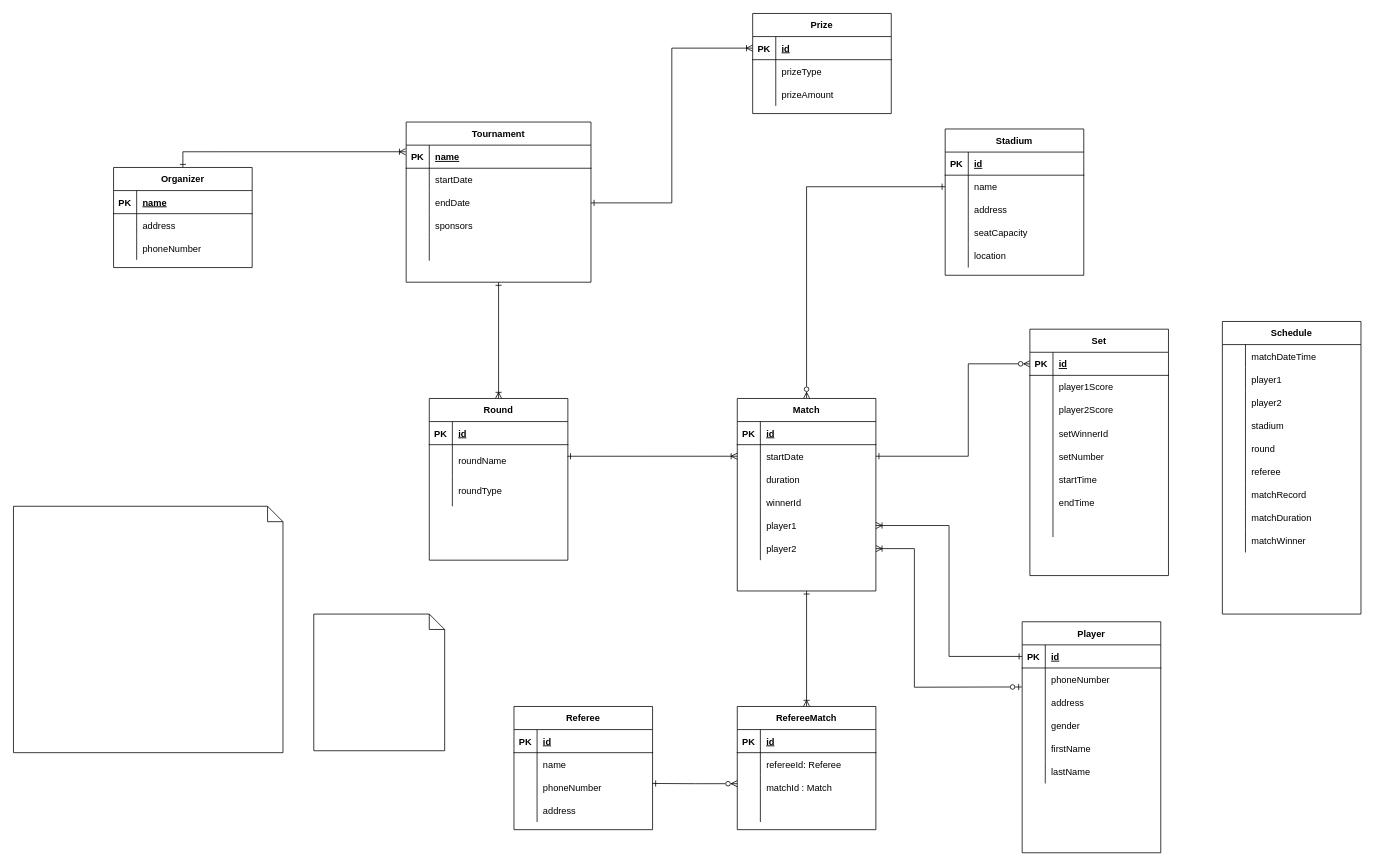
This 1374x866 diagram has some shape labels left out. The centre of each missing label's shape, as x and y in pixels:
match player2 can be null if forfeit: pixel 379 682
roundType: ROUNDOF64, ROUNDOF32, ROUNDOF16, QUARTERFINAL, SEMIFINAL, FINAL: pixel 148 629
